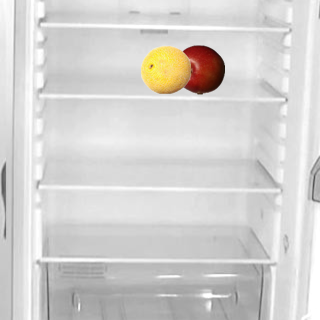Apple Braeburn: (174, 44, 224, 94)
Cantaloupe 1: (140, 44, 190, 94)
